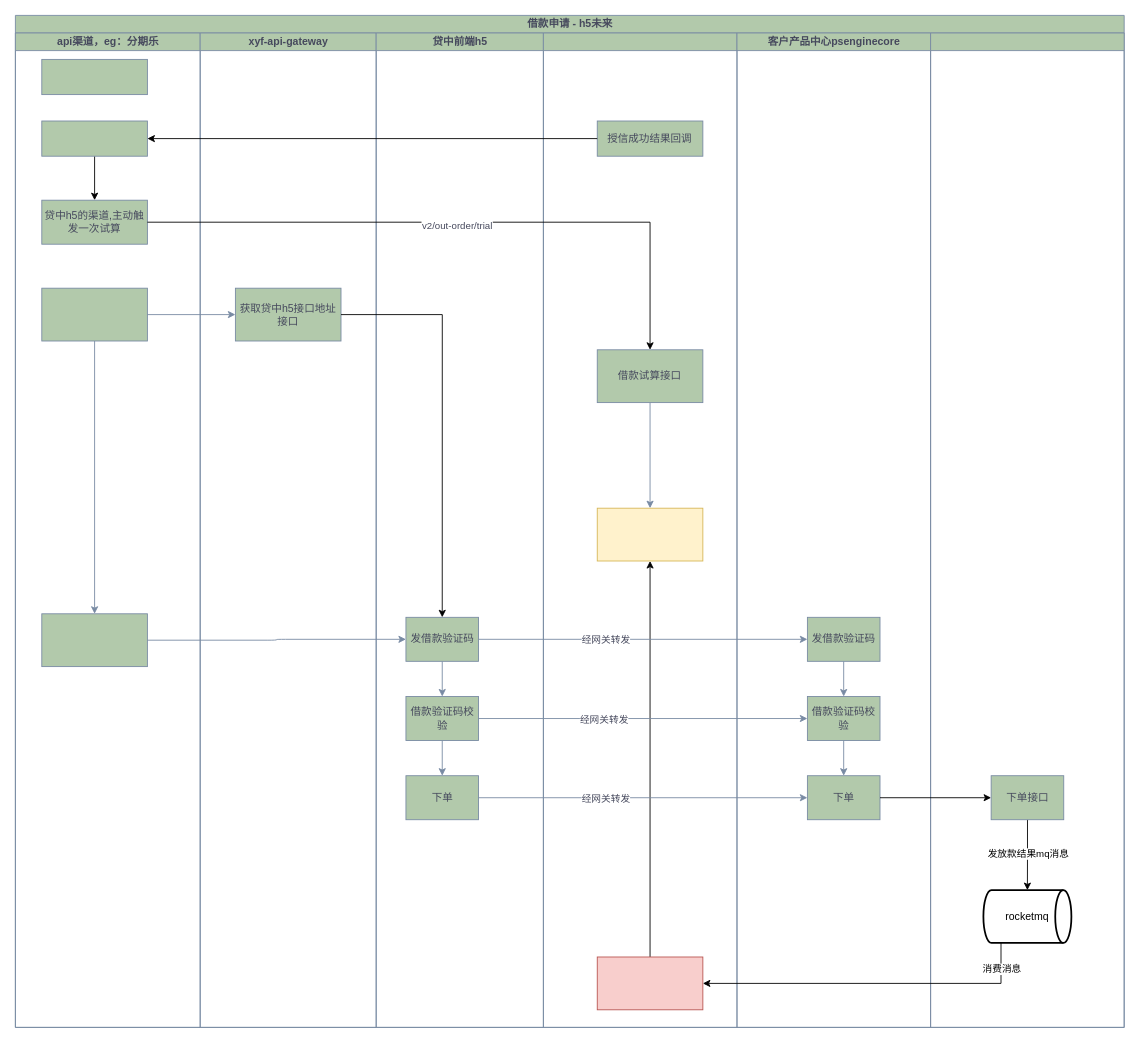
Image size: 1140x1043. Some labels were removed from this diagram. The shapes that lost their labels are listed below. From the top down, each one's box as (x1, y1, x2, y2) in pixels, then its label:
(41, 59, 147, 95): 授信审核通过的用户
(41, 120, 147, 156): 回调审核结果给渠道
(41, 287, 147, 341): 请求查询贷中h5地址
(543, 32, 737, 1027): api产品中心apiopfcore
(596, 507, 703, 561): 创建外部订单数据 cash_out_loan_order表
(930, 32, 1124, 1027): 借款引擎lendtrade
(41, 613, 147, 667): 跳转到贷中h5地址
(596, 956, 703, 1010): 关联内部订单和外部订单
